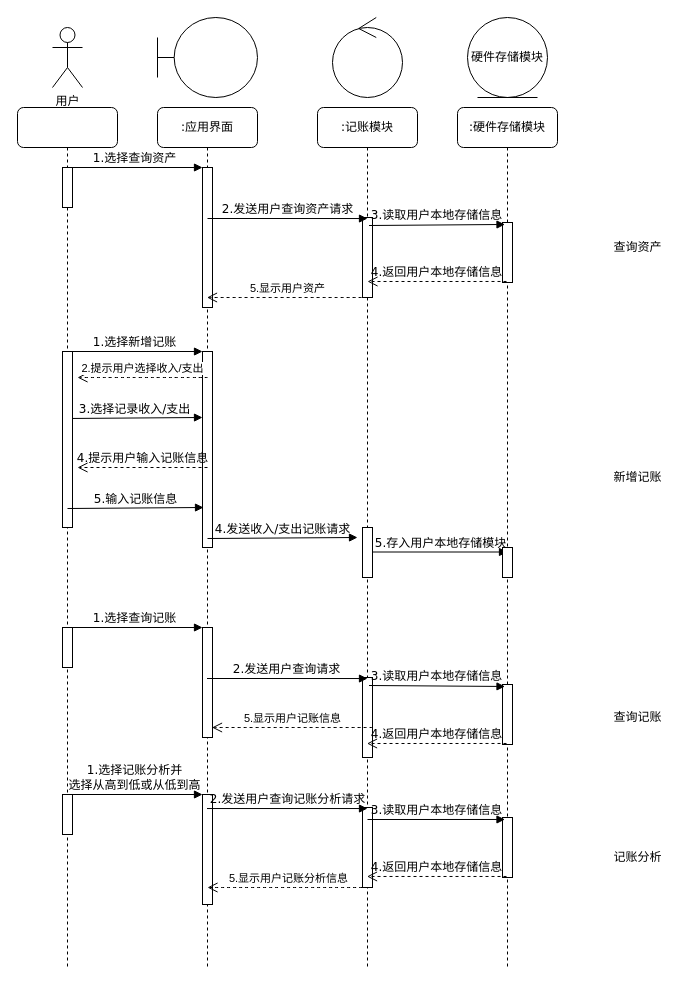
This 685x985 diagram has some shape labels left out. The centre of each missing label's shape, as x and y in pixels:
":用户" belongs at [67,537].
"应用界面" belongs at [207,57].
"记账模块" belongs at [367,57].
